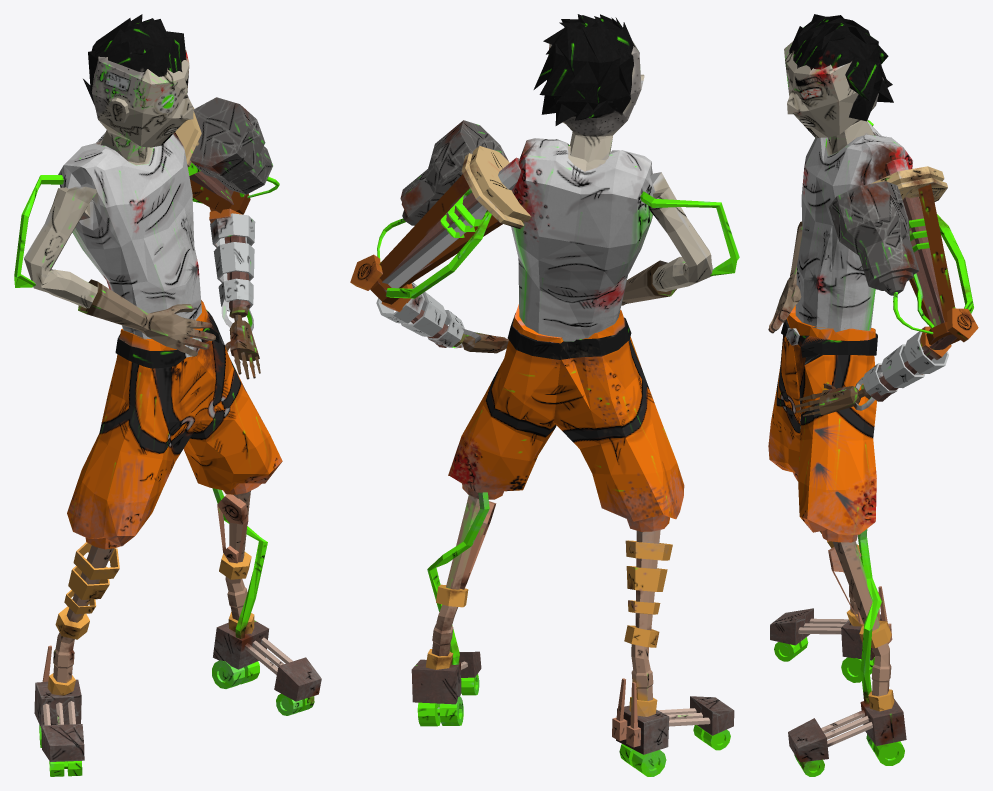
File: CyborgFINALAnimation_000076.obj
3 renders of one model, left to right at view 1: azimuth 30°, elevation 25°; view 2: azimuth 150°, elevation 25°; view 3: azimuth 270°, elevation 25°, orthographic. The views are drawn at different scales.
Visible parts, largest first — view 1: CyborgMesh_Cube.002; view 2: CyborgMesh_Cube.002; view 3: CyborgMesh_Cube.002.
Boxes of the visible parts, x1,y1,x2,y2 form: CyborgMesh_Cube.002: [14, 14, 321, 776]; CyborgMesh_Cube.002: [350, 14, 739, 776]; CyborgMesh_Cube.002: [768, 14, 978, 776].
Bounding box in the file's own units: 4.31 × 9.6 × 2.65.
